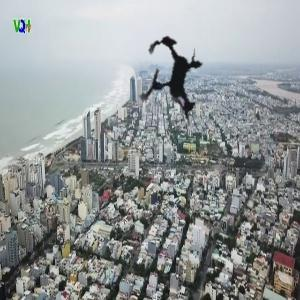drone: (104, 10, 242, 148)
